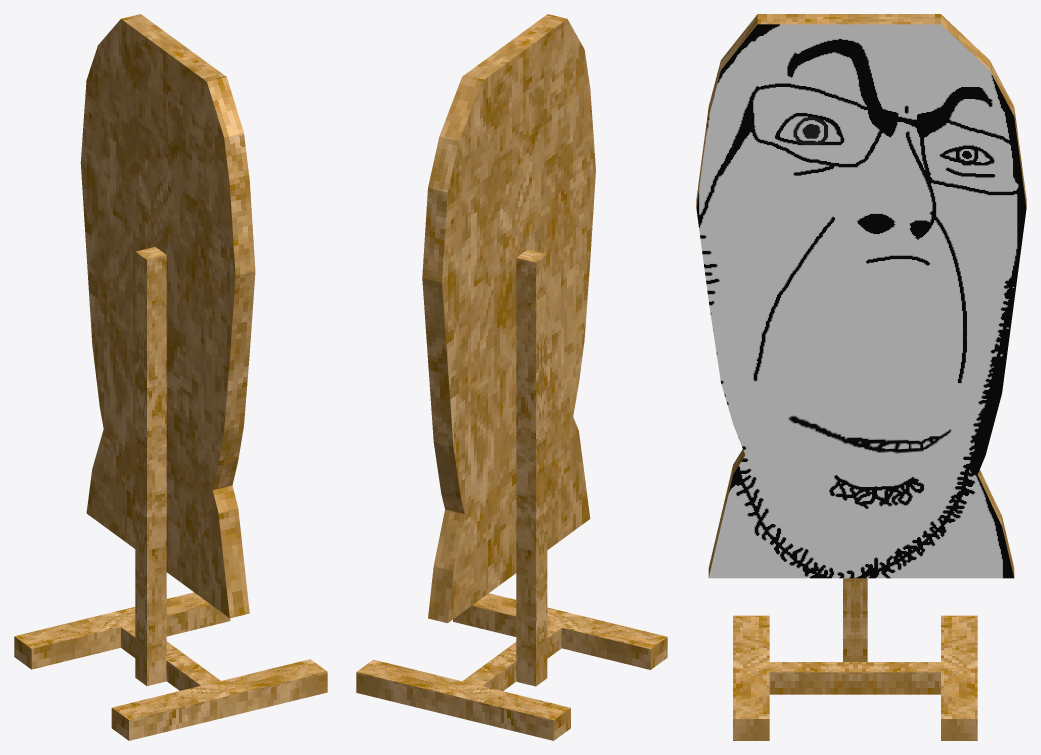
The model's file is cobson_target.glb.
3 views of the same model, side by side, from view 1: azimuth 30°, elevation 25°; view 2: azimuth 150°, elevation 25°; view 3: azimuth 270°, elevation 25° (orthographic). The views are drawn at different scales.
Parts seen in each view (by area): view 1: Target, Stand; view 2: Target, Stand; view 3: Target, Stand.
Boxes of the visible parts, bbox=[...] form: Target: bbox=[80, 14, 255, 618]; Stand: bbox=[14, 247, 327, 740]; Target: bbox=[422, 14, 595, 623]; Stand: bbox=[356, 249, 667, 740]; Target: bbox=[696, 14, 1026, 578]; Stand: bbox=[733, 578, 977, 740].
Size of the model in its own units: 1 by 3.03 by 1.35.
2 materials, 2 textured.
